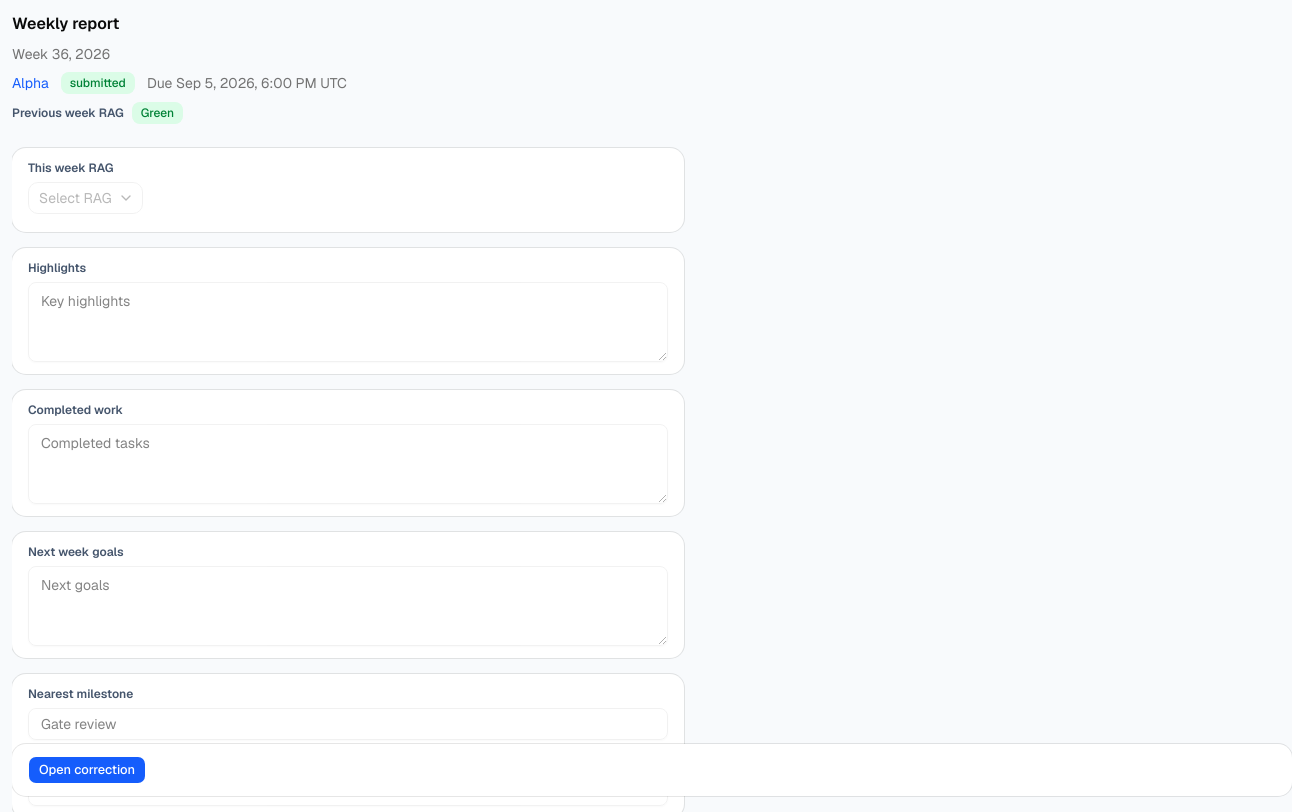
Test: WeeklyReportEditorPage › submit and correct › shows Open correction for submitted and enables fields after correct
The image size is (1292, 812).
Expected: the text box labelled "Highlights" is disabled, [28,282,668,362]
Click the button "Open correction" at (87, 770), box [28,756,146,784]
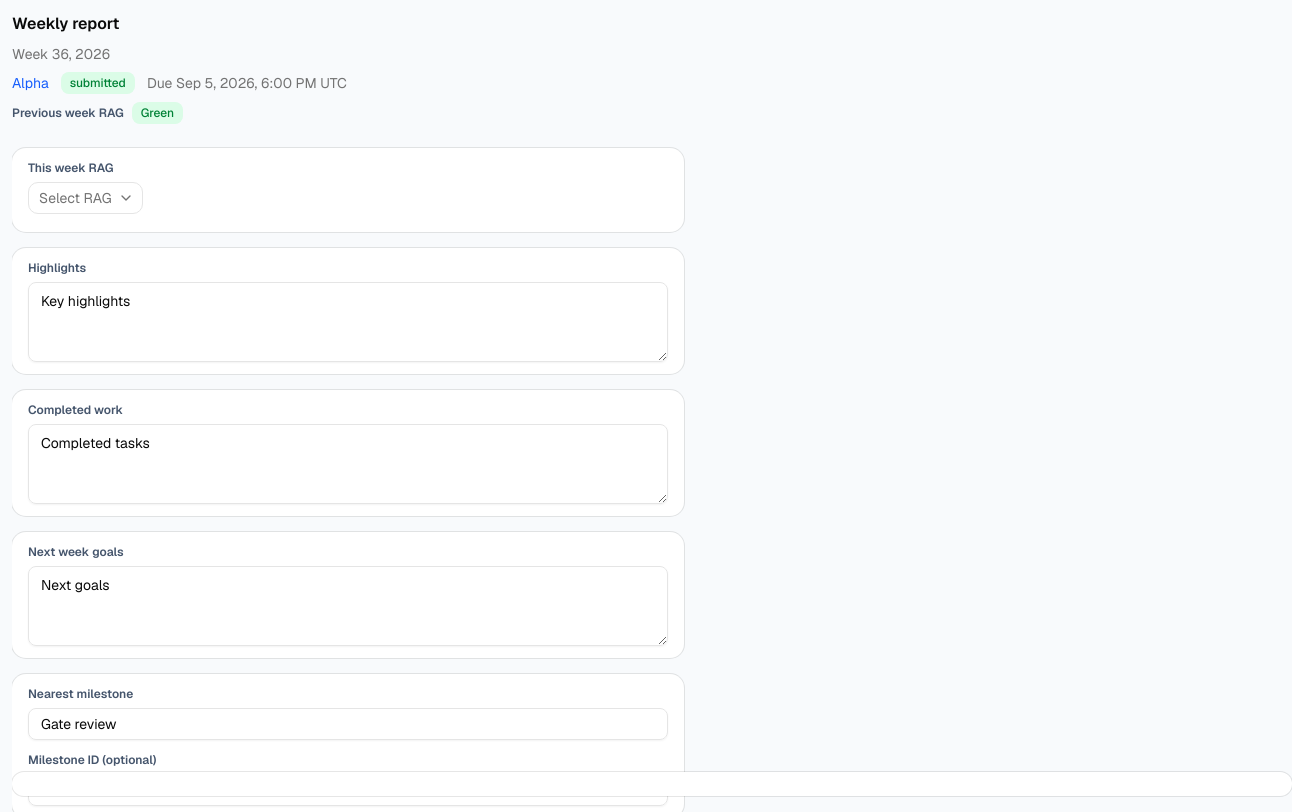
Now the text box labelled "Highlights" is enabled, box [28,282,668,362]
